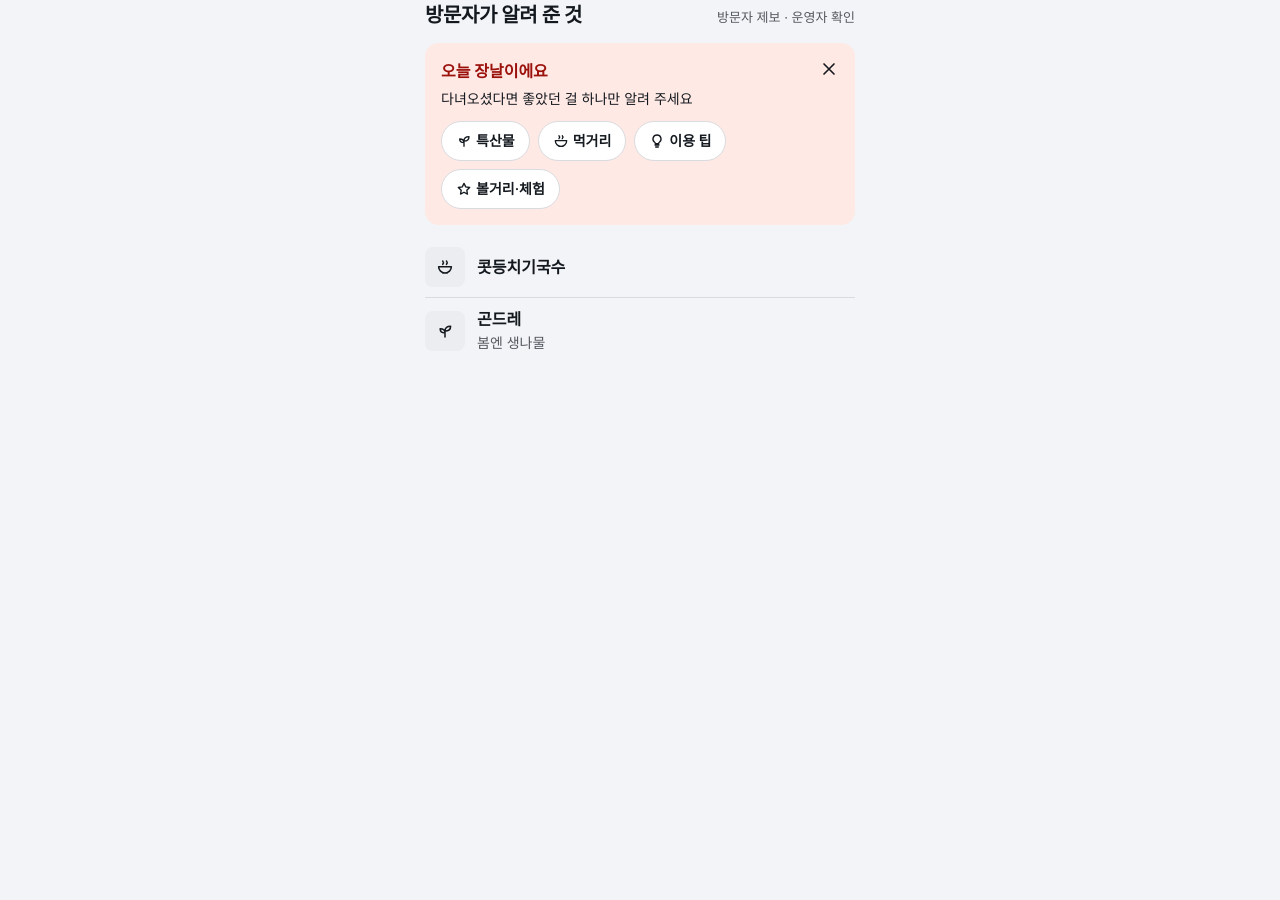
Scenario: MarketHighlights › asks market-day visitors first and remembers a dismissal until the next market day
Check: the element "나도 알려 주기" is not shown
Click the button with aria-label "이용 팁 알려 주기".
click(680, 141)  # box [634,121,726,161]
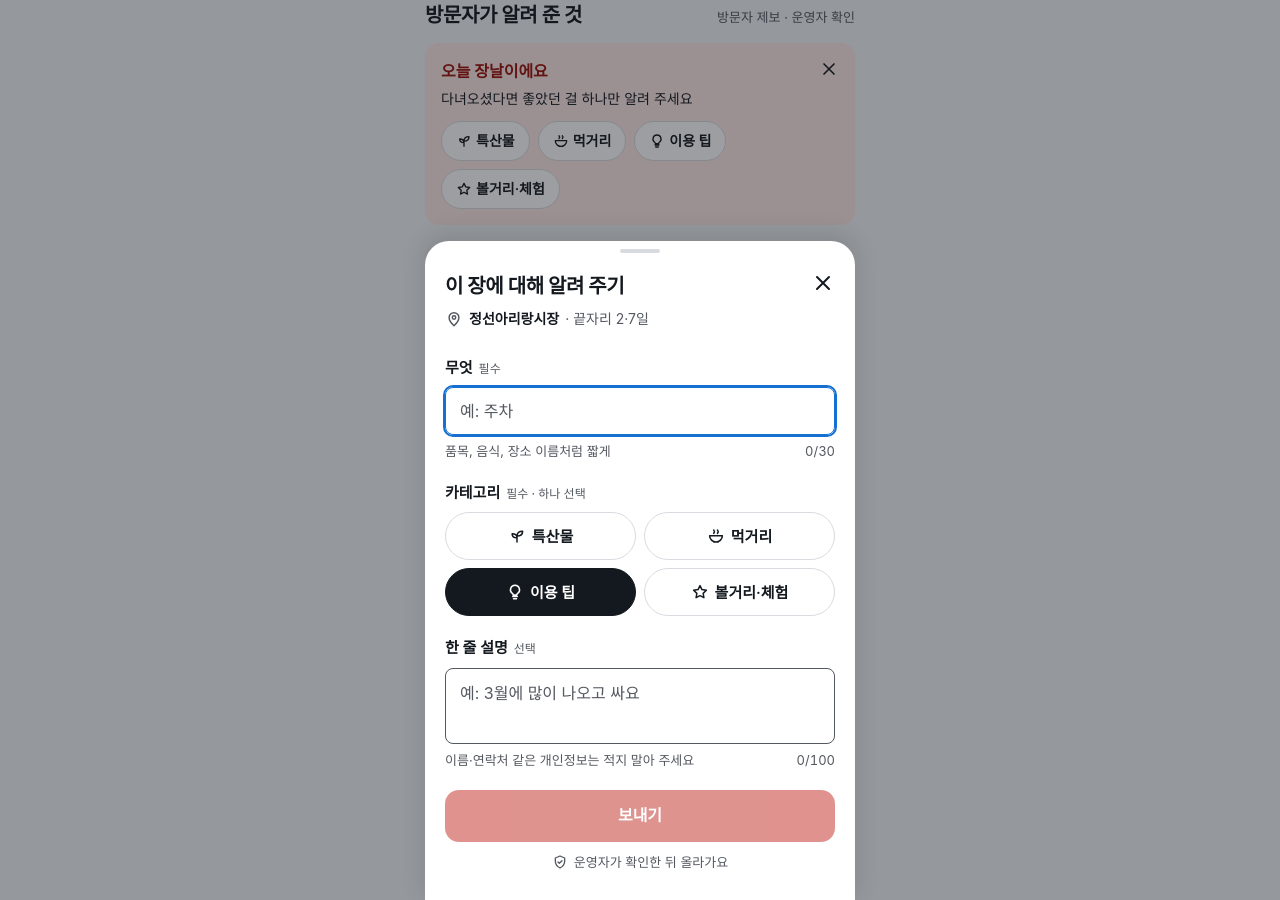
Press Escape
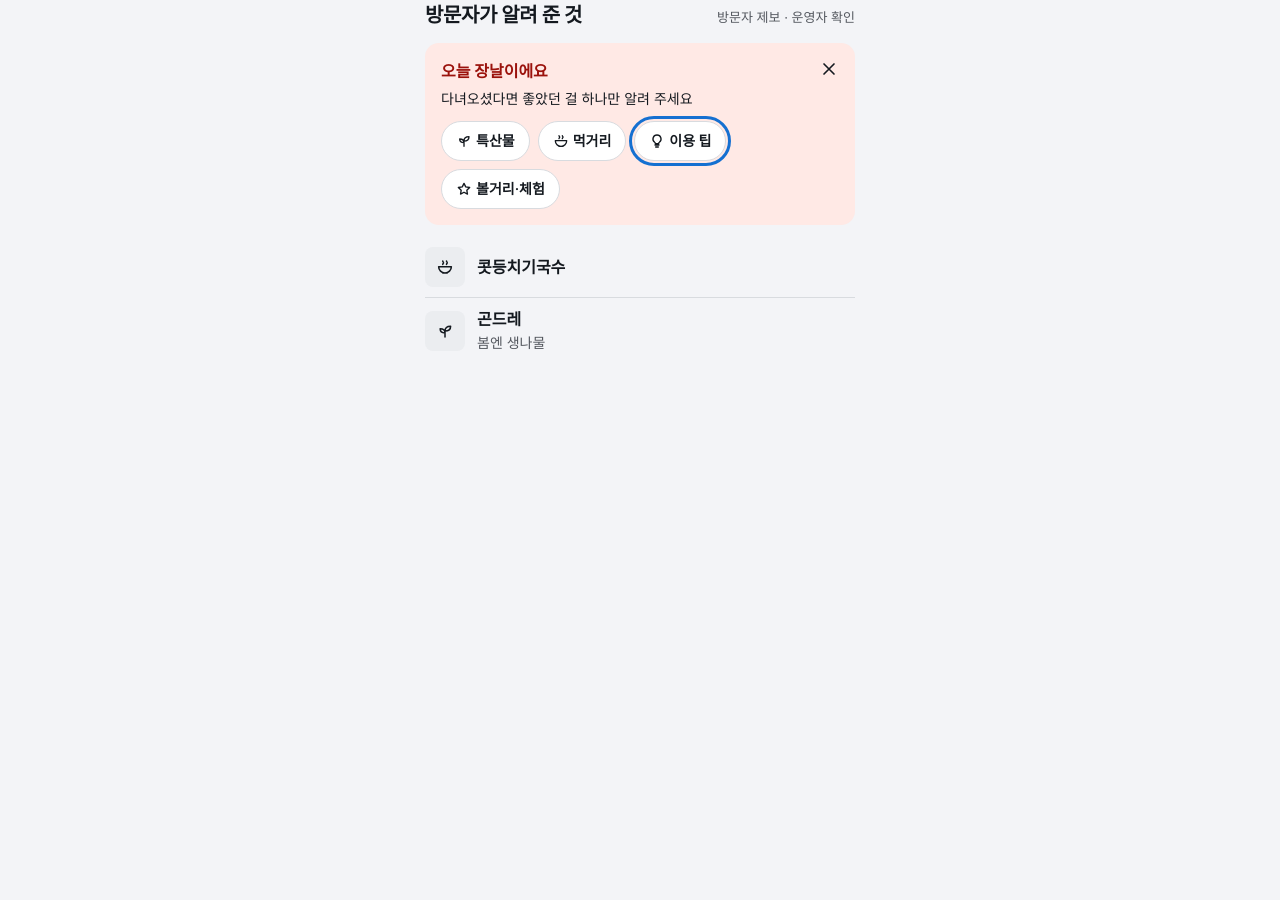
Click the button named "닫기".
click(829, 69)  # box [807,47,851,91]
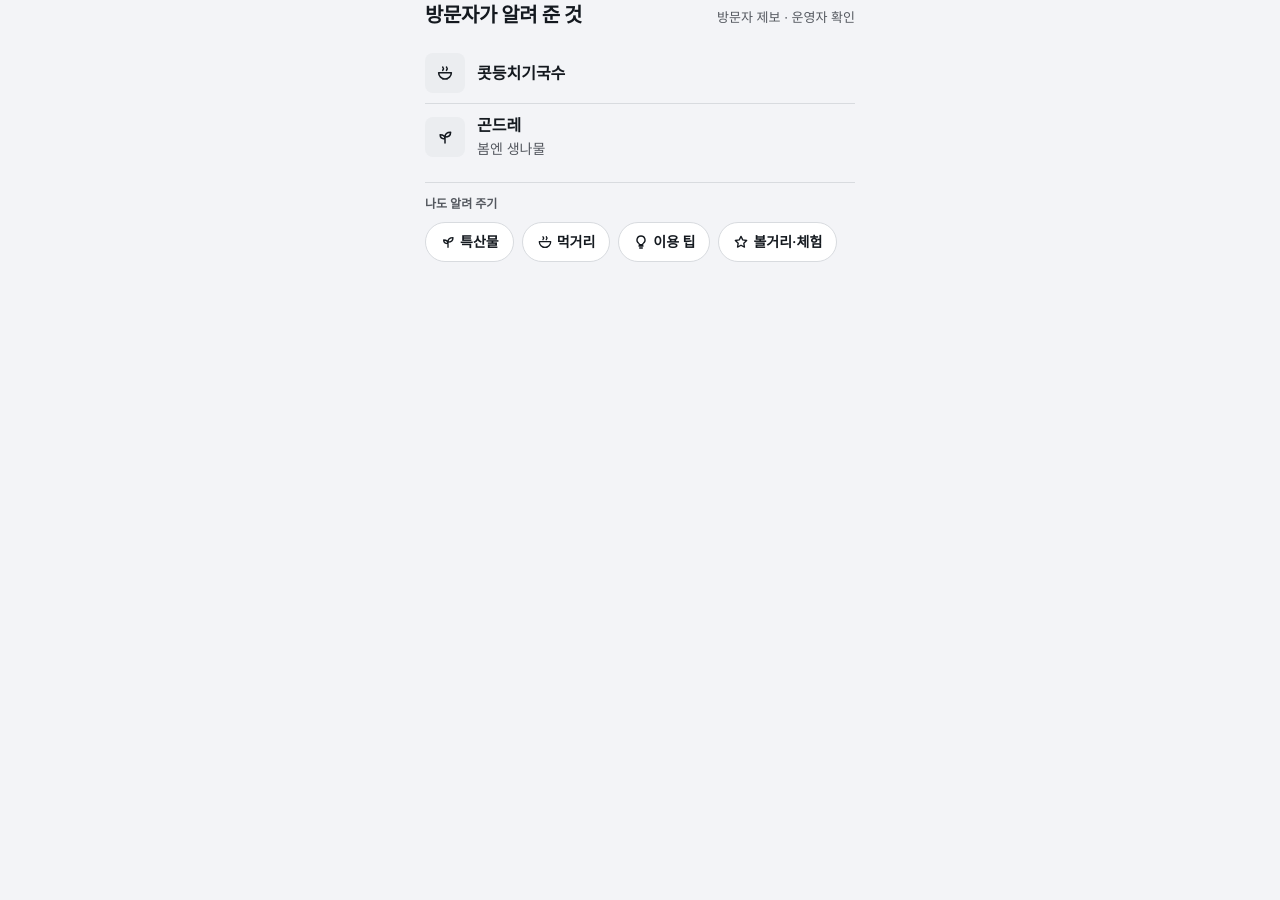
Check: the text "오늘 장날이에요" is gone
Check: the element "나도 알려 주기" is shown, box [425,182,855,262]
